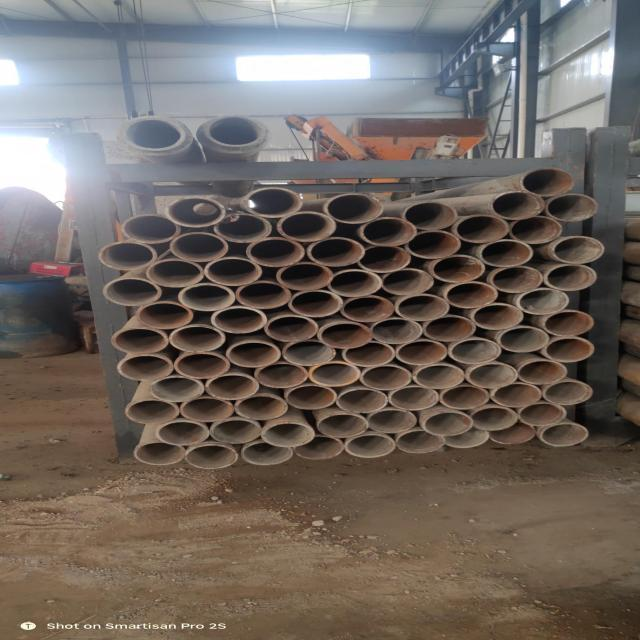pipe: (200, 115, 274, 151), (119, 116, 190, 152), (275, 210, 337, 242), (396, 200, 458, 232), (99, 278, 163, 308), (238, 188, 302, 218), (545, 234, 606, 264), (307, 238, 367, 268), (326, 192, 384, 223), (359, 216, 417, 247), (323, 270, 384, 299), (515, 166, 576, 195), (214, 214, 272, 244), (402, 230, 462, 259), (120, 214, 182, 242), (164, 198, 226, 226), (94, 242, 156, 270), (420, 313, 478, 342), (166, 232, 226, 260), (248, 236, 304, 266), (430, 254, 486, 284), (202, 259, 261, 287), (378, 267, 433, 297), (116, 354, 174, 382), (172, 352, 230, 380), (486, 265, 544, 293), (494, 324, 552, 352), (516, 286, 572, 315), (540, 335, 598, 363), (176, 284, 232, 312), (488, 191, 542, 220), (134, 302, 194, 328), (264, 314, 316, 344), (542, 264, 602, 290), (477, 240, 532, 268), (468, 302, 523, 330), (358, 244, 409, 274), (278, 262, 332, 290), (337, 296, 393, 323), (417, 409, 473, 436), (544, 193, 600, 220), (108, 328, 166, 354), (122, 400, 180, 426), (252, 363, 310, 389), (444, 280, 497, 308), (448, 337, 501, 365), (146, 260, 200, 287), (169, 326, 225, 352), (208, 307, 264, 333), (232, 394, 288, 420), (234, 282, 290, 308), (314, 322, 370, 348), (359, 364, 411, 392), (454, 214, 506, 242), (152, 375, 205, 402), (488, 381, 541, 408), (544, 310, 598, 336), (258, 422, 314, 447), (312, 413, 368, 438), (392, 295, 448, 320), (392, 429, 448, 454), (182, 444, 238, 469), (291, 434, 344, 460), (541, 422, 594, 448), (514, 358, 566, 384), (284, 340, 334, 367), (394, 339, 448, 364), (510, 217, 560, 244), (228, 342, 279, 368), (204, 374, 257, 399), (253, 362, 306, 387), (465, 405, 518, 430), (481, 422, 536, 446), (240, 442, 295, 466), (290, 290, 340, 316), (286, 384, 338, 409), (309, 360, 361, 385), (340, 342, 394, 366), (342, 434, 396, 458), (542, 382, 596, 406), (132, 442, 186, 466), (332, 389, 387, 412), (156, 420, 208, 444), (180, 398, 232, 422), (208, 420, 260, 444), (374, 318, 422, 344), (412, 364, 464, 388), (512, 404, 567, 426), (390, 386, 440, 410), (438, 386, 488, 410), (365, 409, 417, 432), (442, 425, 489, 449), (468, 364, 515, 388)
